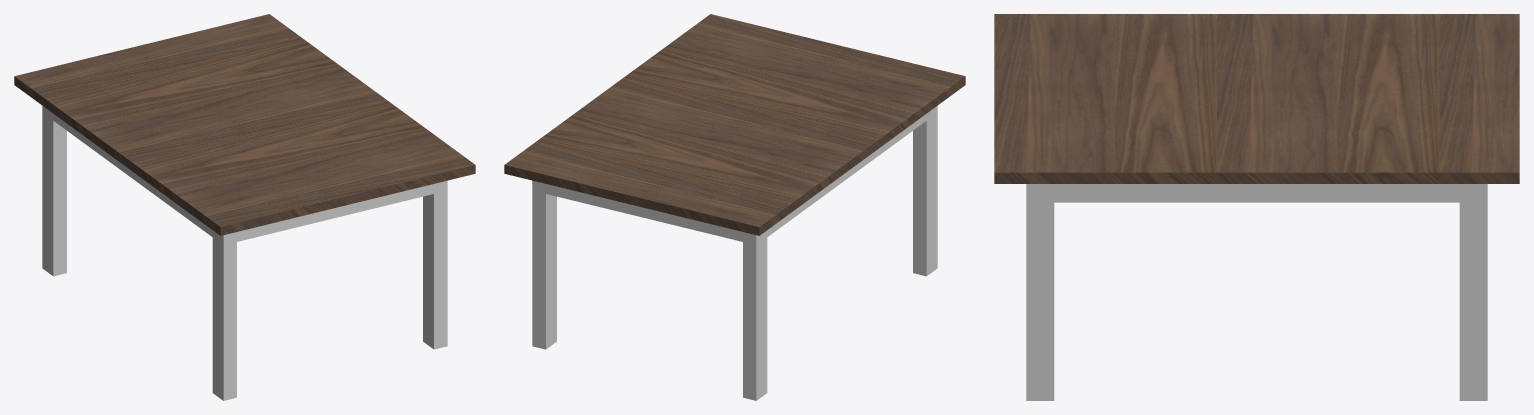
Rendered from 27 desk.fbx.
3 views of the same model, side by side, from view 1: azimuth 30°, elevation 25°; view 2: azimuth 150°, elevation 25°; view 3: azimuth 270°, elevation 25° (orthographic). The views are drawn at different scales.
Visible parts, largest first — view 1: Box001, Object001; view 2: Box001, Object001; view 3: Box001, Object001.
Boxes of the visible parts, left/top/right/bottom form: Box001: left=14, top=14, right=475, bottom=235; Object001: left=42, top=106, right=447, bottom=400; Box001: left=504, top=14, right=965, bottom=235; Object001: left=532, top=106, right=937, bottom=400; Box001: left=994, top=14, right=1519, bottom=183; Object001: left=1026, top=184, right=1487, bottom=400.
Size of the model in its own units: 30 by 42 by 21.
Materials: 1 (1 with a texture image).
